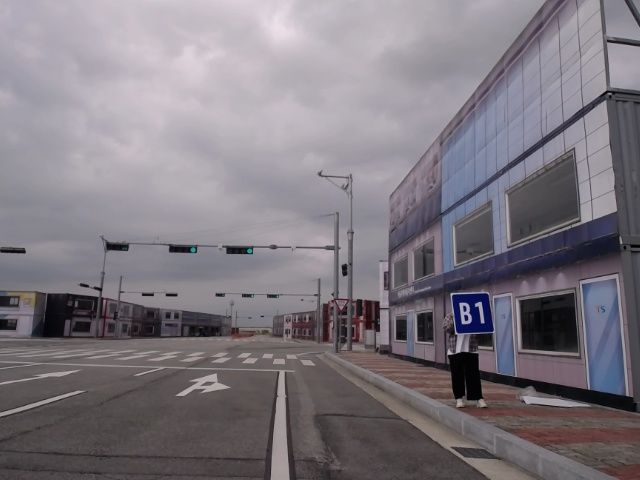delivery_b1: (451, 292, 494, 334)
straight_green_4: (169, 245, 197, 253), (226, 246, 253, 254), (242, 294, 254, 298), (267, 294, 279, 298)
